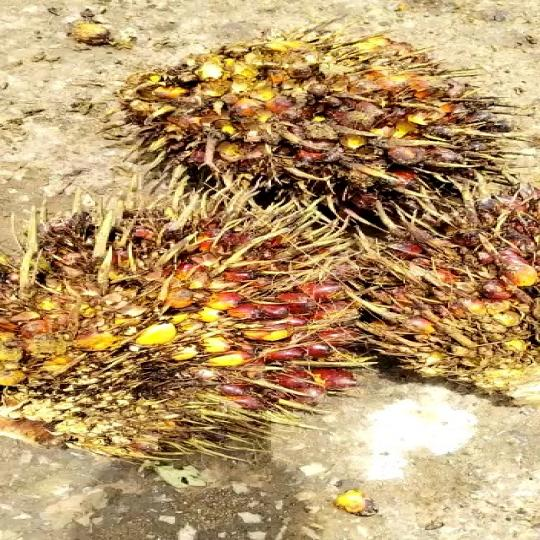masak: (0, 195, 366, 497), (111, 43, 523, 223), (353, 193, 540, 417)
